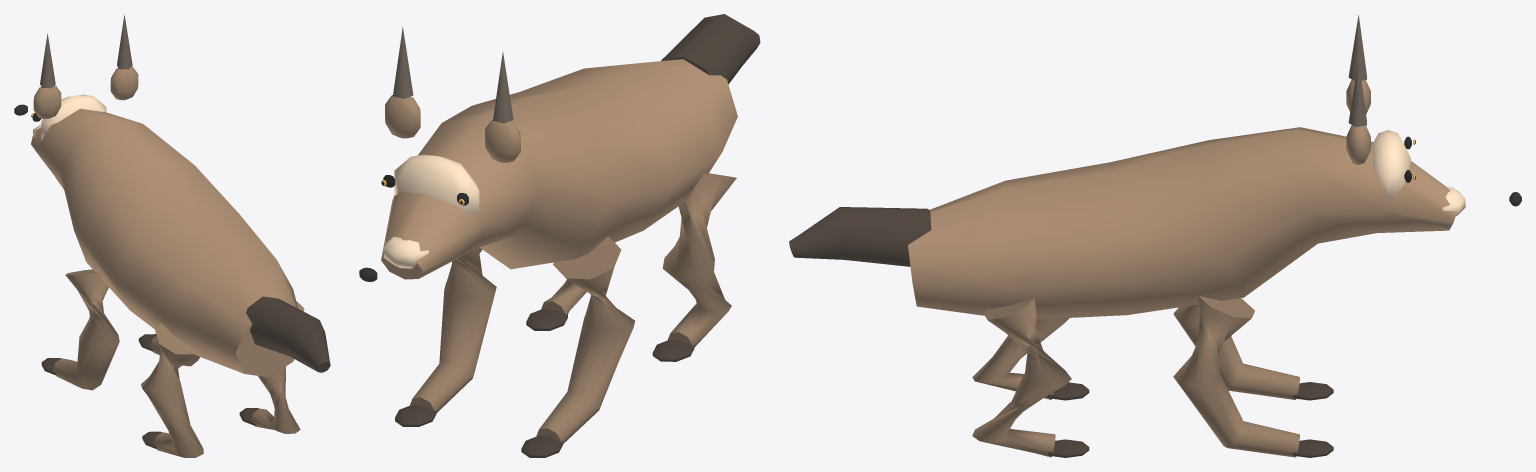
Rendered from lynx_mobile.glb.
3 views of the same model, side by side, from view 1: azimuth 30°, elevation 25°; view 2: azimuth 150°, elevation 25°; view 3: azimuth 270°, elevation 25° (orthographic). The views are drawn at different scales.
Parts seen in each view (by area): view 1: LynxOrganicBody, Leg_LH, Leg_LF, Tail, Leg_RH, CheekRuff, RoundEar2, RoundEar, EarTuft_R, EarTuft_L; view 2: LynxOrganicBody, Leg_LF, Leg_RF, Leg_LH, Tail, CheekRuff, RoundEar2, RoundEar, Muzzle, Leg_RH, EarTuft_L, EarTuft_R (+4 smaller); view 3: LynxOrganicBody, Leg_RF, Tail, Leg_RH, Leg_LF, Leg_LH, CheekRuff, RoundEar2.
Boxes of the visible parts, left/top/right/bottom form: LynxOrganicBody: left=31, top=108, right=297, bottom=377; Leg_LH: left=141, top=323, right=203, bottom=457; Leg_LF: left=53, top=269, right=119, bottom=390; Tail: left=246, top=296, right=330, bottom=372; Leg_RH: left=251, top=301, right=304, bottom=433; CheekRuff: left=41, top=94, right=106, bottom=140; RoundEar2: left=110, top=67, right=138, bottom=100; RoundEar: left=33, top=85, right=61, bottom=118; EarTuft_R: left=117, top=14, right=132, bottom=69; EarTuft_L: left=40, top=33, right=55, bottom=88; LynxOrganicBody: left=381, top=59, right=737, bottom=279; Leg_LF: left=536, top=236, right=634, bottom=443; Leg_RF: left=410, top=247, right=496, bottom=412; Leg_LH: left=662, top=173, right=736, bottom=347; Tail: left=661, top=14, right=760, bottom=84; CheekRuff: left=394, top=154, right=479, bottom=214; RoundEar2: left=385, top=95, right=420, bottom=138; RoundEar: left=485, top=119, right=520, bottom=162; Muzzle: left=383, top=236, right=428, bottom=268; Leg_RH: left=541, top=279, right=586, bottom=315; EarTuft_L: left=493, top=51, right=513, bottom=123; EarTuft_R: left=393, top=26, right=413, bottom=98; LynxOrganicBody: left=908, top=127, right=1456, bottom=319; Leg_RF: left=1173, top=296, right=1299, bottom=457; Tail: left=789, top=207, right=931, bottom=266; Leg_RH: left=972, top=298, right=1071, bottom=457; Leg_LF: left=1173, top=304, right=1299, bottom=399; Leg_LH: left=972, top=318, right=1069, bottom=399; CheekRuff: left=1372, top=130, right=1410, bottom=198; RoundEar2: left=1346, top=125, right=1370, bottom=164.
Size of the model in its own units: 1.1 by 2.34 by 3.97.
